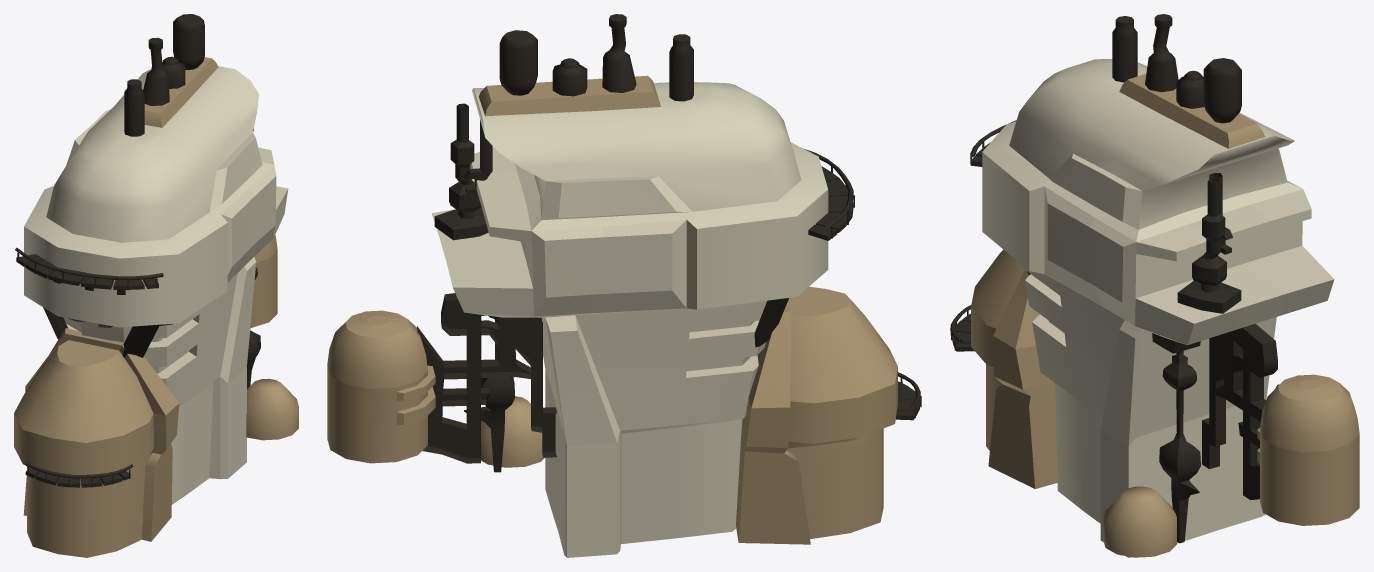
The model's file is MainBuilding.fbx.
3 renders of one model, left to right at view 1: azimuth 30°, elevation 25°; view 2: azimuth 150°, elevation 25°; view 3: azimuth 270°, elevation 25°, orthographic. The views are drawn at different scales.
Visible parts, largest first — view 1: MainBuilding, LwrBuilding, SmBldgByGuards, BldgByGrid, Exhausts, RoundExhaust_04, MainBldgRailBridg, TallExhaust_02, FrontExhaust_01, LwrRailBrdge, MainBldgSupportA, MainBldgRail (+3 smaller); view 2: MainBuilding, LwrBuilding, BldgByGrid, MainBldgGridPipes, Exhausts, MainBldgBackSmokeStack, SmBldgByGuards, RoundExhaust_04, RoundedSupportBeam, TallExhaust_02, FrontExhaust_01, MainBldgRailBridg (+2 smaller); view 3: MainBuilding, LwrBuilding, BldgByGrid, MainBldgGridPipes, SmBldgByGuards, MainBldgBackSmokeStack, RoundedSupportBeam, Exhausts, RoundExhaust_04, TallExhaust_02, FrontExhaust_01, SquatExhaust_03 (+1 smaller).
Boxes of the visible parts, left/top/right/bottom form: MainBuilding: left=24, top=66, right=288, bottom=504; LwrBuilding: left=14, top=328, right=179, bottom=557; SmBldgByGuards: left=246, top=378, right=298, bottom=440; BldgByGrid: left=250, top=235, right=277, bottom=328; Exhausts: left=144, top=57, right=218, bottom=127; RoundExhaust_04: left=173, top=14, right=204, bottom=69; MainBldgRailBridg: left=16, top=254, right=158, bottom=289; TallExhaust_02: left=143, top=37, right=169, bottom=105; FrontExhaust_01: left=124, top=79, right=144, bottom=136; LwrRailBrdge: left=25, top=468, right=130, bottom=487; MainBldgSupportA: left=123, top=324, right=159, bottom=357; MainBldgRail: left=15, top=247, right=163, bottom=280; MainBuilding: left=431, top=82, right=828, bottom=557; LwrBuilding: left=736, top=286, right=897, bottom=544; BldgByGrid: left=327, top=310, right=435, bottom=463; MainBldgGridPipes: left=417, top=293, right=556, bottom=463; Exhausts: left=479, top=75, right=660, bottom=116; MainBldgBackSmokeStack: left=434, top=103, right=492, bottom=240; SmBldgByGuards: left=481, top=396, right=544, bottom=467; RoundExhaust_04: left=499, top=30, right=537, bottom=95; RoundedSupportBeam: left=464, top=315, right=514, bottom=472; TallExhaust_02: left=602, top=14, right=636, bottom=92; FrontExhaust_01: left=669, top=34, right=693, bottom=101; MainBldgRailBridg: left=808, top=166, right=853, bottom=240; MainBuilding: left=982, top=59, right=1334, bottom=557; LwrBuilding: left=971, top=249, right=1057, bottom=488; BldgByGrid: left=1257, top=374, right=1359, bottom=525; MainBldgGridPipes: left=1202, top=323, right=1279, bottom=500; SmBldgByGuards: left=1103, top=486, right=1176, bottom=557; MainBldgBackSmokeStack: left=1177, top=173, right=1241, bottom=313; RoundedSupportBeam: left=1152, top=333, right=1200, bottom=543; Exhausts: left=1119, top=74, right=1264, bottom=148; RoundExhaust_04: left=1203, top=58, right=1241, bottom=123; TallExhaust_02: left=1145, top=14, right=1178, bottom=92; FrontExhaust_01: left=1112, top=16, right=1137, bottom=82; SquatExhaust_03: left=1176, top=70, right=1204, bottom=108.
Bounding box in the file's own units: 99.21 × 110 × 81.78.
